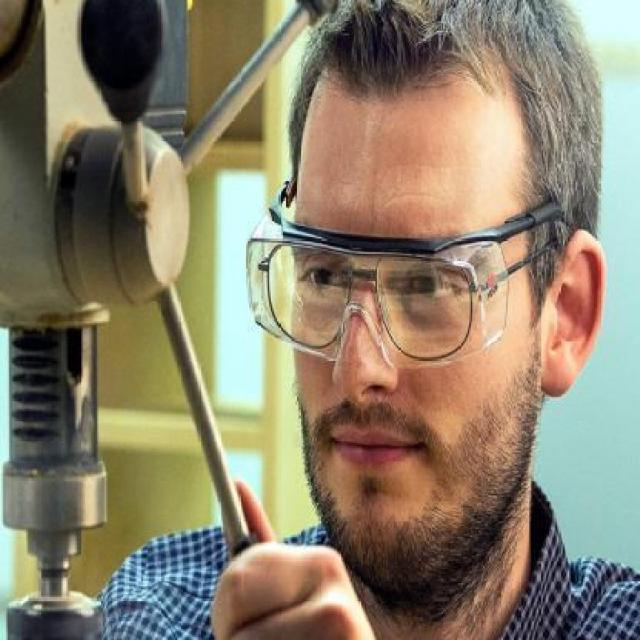Goggles: (240, 169, 586, 368)
